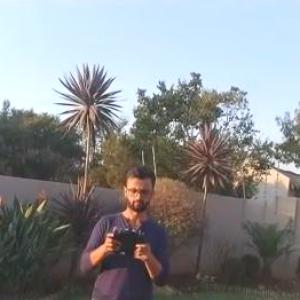follow: (74, 157, 176, 299)
